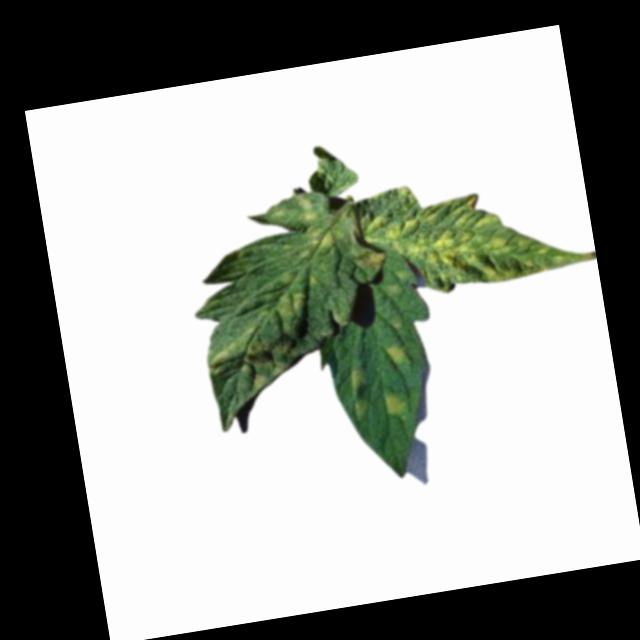Leaf_Mold: (355, 159, 587, 301), (204, 318, 307, 398), (291, 184, 338, 252), (272, 269, 309, 321), (344, 363, 375, 422), (382, 342, 410, 374), (384, 389, 407, 418)
